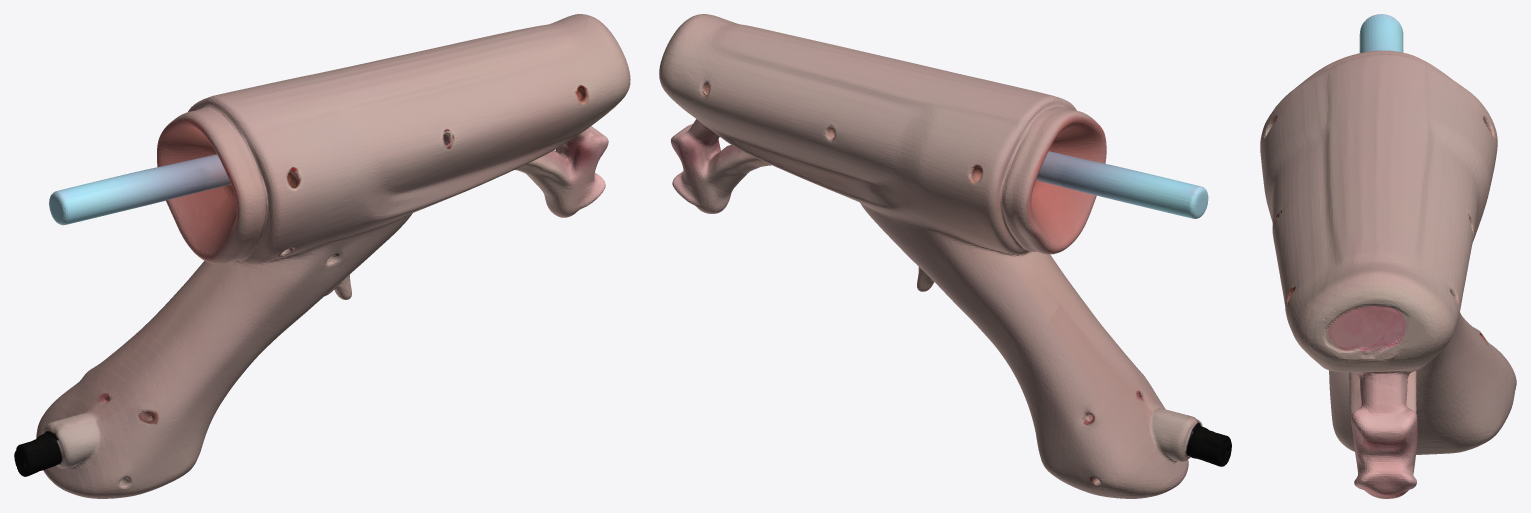
3 renders of one model, left to right at view 1: azimuth 30°, elevation 25°; view 2: azimuth 150°, elevation 25°; view 3: azimuth 270°, elevation 25°, orthographic. The views are drawn at different scales.
Visible parts, largest first — view 1: texture_v100; view 2: texture_v100; view 3: texture_v100.
Part boxes in pixels (x1,y1,x2,y2): texture_v100: [14, 14, 630, 498]; texture_v100: [659, 14, 1231, 498]; texture_v100: [1260, 14, 1516, 498].
Size of the model in its own units: 1.05 by 0.6288 by 0.3298.
Materials: 1 (1 with a texture image).
